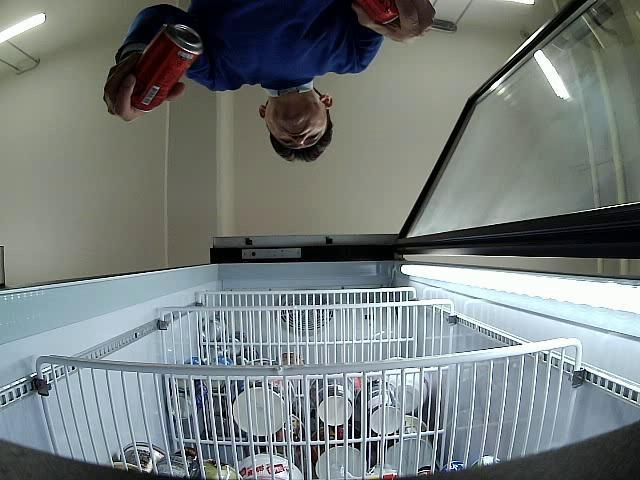11_cocaColaZero: (130, 22, 202, 112), (356, 0, 400, 25)
